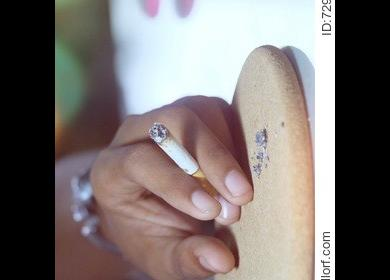Cigarette: (150, 122, 215, 194)
